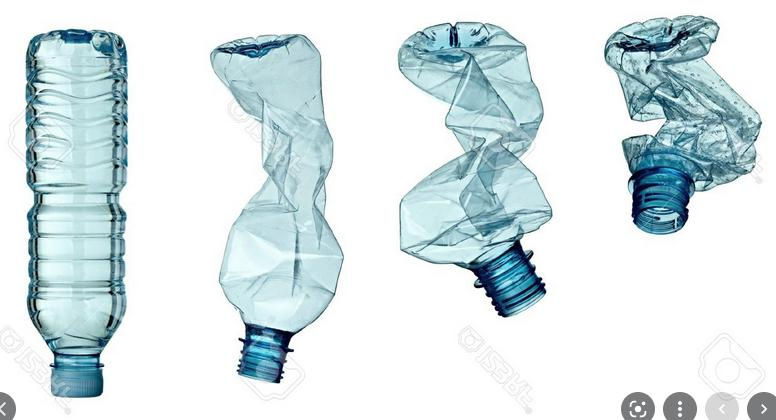Plastic: (386, 12, 554, 320), (209, 31, 347, 395), (22, 27, 132, 412), (603, 14, 767, 237)
